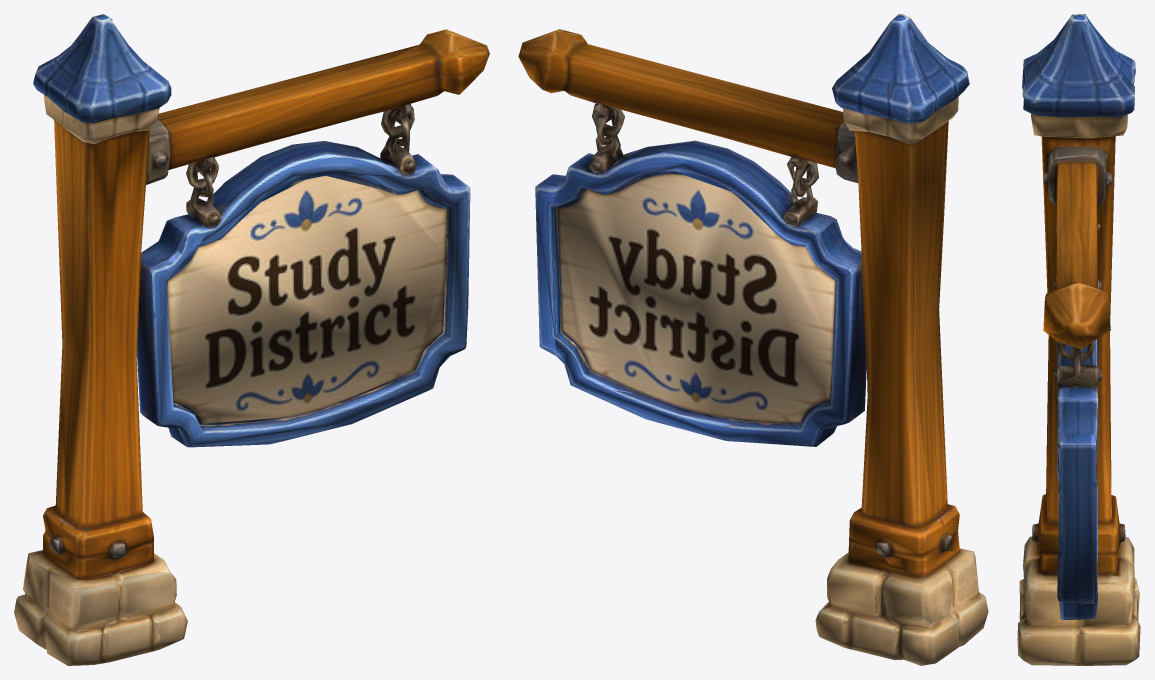
The model's file is sign-study.glb.
The picture shows the model from 3 angles, left to right: view 1: azimuth 30°, elevation 25°; view 2: azimuth 150°, elevation 25°; view 3: azimuth 270°, elevation 25°; orthographic projection.
Visible parts, largest first — view 1: Mesh1.0; view 2: Mesh1.0; view 3: Mesh1.0.
Part boxes in pixels (x1,y1,x2,y2): Mesh1.0: (14,14,489,665); Mesh1.0: (518,14,988,665); Mesh1.0: (1017,14,1140,665).
Bounding box in the file's own units: 1.42 × 1.89 × 0.3391.
1 material, 1 textured.
